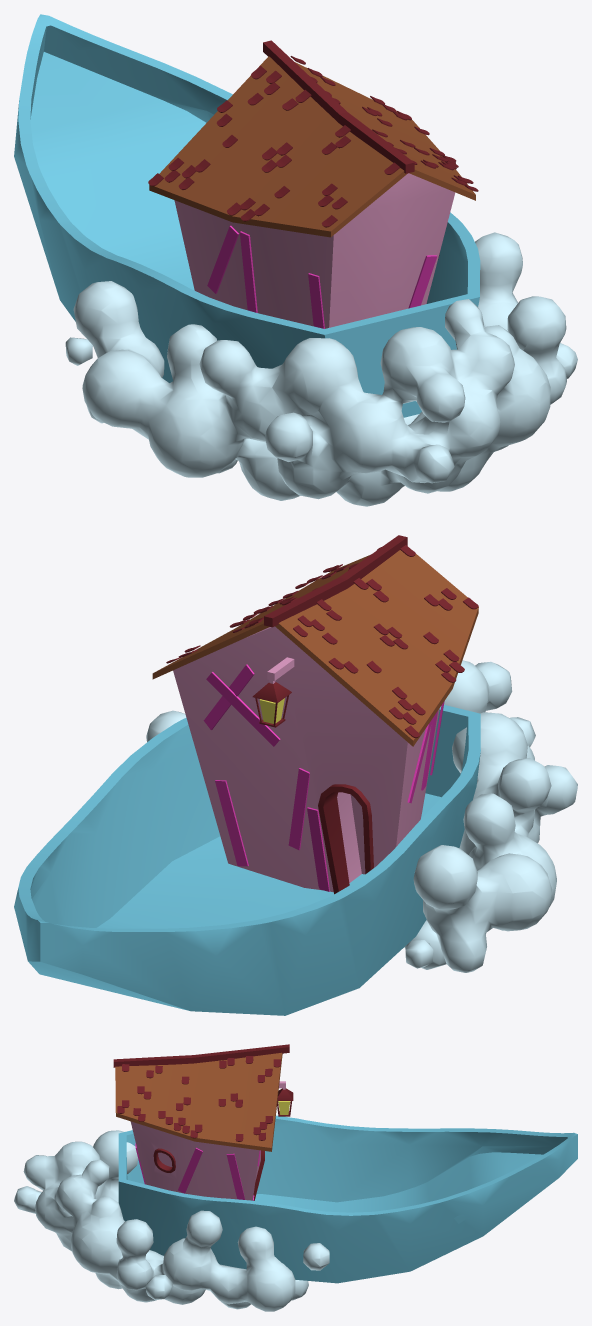
The model's file is ship1.fbx.
3 views of the same model, one above another, from view 1: azimuth 30°, elevation 25°; view 2: azimuth 150°, elevation 25°; view 3: azimuth 270°, elevation 25° (orthographic). The views are drawn at different scales.
Parts seen in each view (by area): view 1: Mball, Cube, Cube.002, Cube.001, Cube.003, Plane.078, Plane.077, Plane.076, Plane.079; view 2: Cube, Cube.001, Mball, Cube.002, Cube.005, Cube.003, Plane.071, Plane.064, Plane.073, Plane.063, Plane.072; view 3: Cube, Mball, Cube.002, Cube.001, Cube.003, Plane.074, Plane.075.
Part boxes in pixels (x1,y1,x2,y2): Mball: [65, 232, 577, 506]; Cube: [14, 14, 480, 417]; Cube.002: [149, 56, 475, 237]; Cube.001: [174, 173, 455, 328]; Cube.003: [263, 40, 414, 173]; Plane.078: [239, 231, 257, 312]; Plane.077: [207, 225, 238, 293]; Plane.076: [408, 255, 437, 308]; Plane.079: [308, 273, 324, 328]; Cube: [14, 705, 480, 1015]; Cube.001: [173, 626, 439, 892]; Mball: [146, 660, 577, 972]; Cube.002: [152, 550, 478, 746]; Cube.005: [318, 784, 373, 894]; Cube.003: [264, 535, 407, 627]; Plane.071: [215, 780, 248, 866]; Plane.064: [288, 768, 309, 850]; Plane.073: [206, 672, 280, 746]; Plane.063: [307, 807, 329, 891]; Plane.072: [203, 664, 254, 729]; Cube: [118, 1115, 577, 1283]; Mball: [14, 1116, 329, 1311]; Cube.002: [115, 1052, 282, 1151]; Cube.001: [130, 1121, 260, 1200]; Cube.003: [113, 1044, 289, 1067]; Plane.074: [178, 1148, 202, 1193]; Plane.075: [226, 1153, 244, 1199].
Size of the model in its own units: 293 by 238 by 518.
